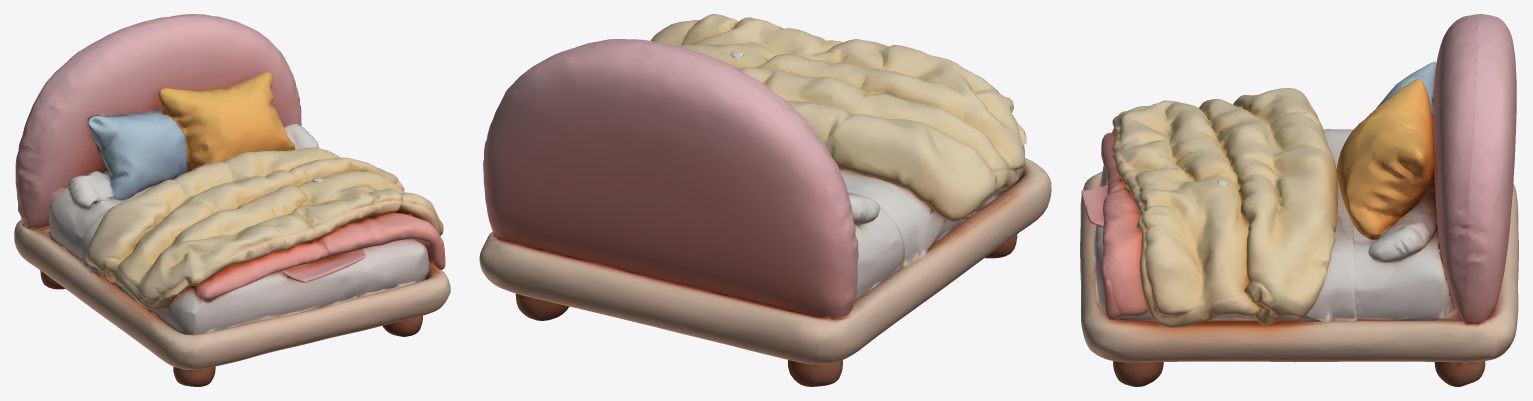
Rendered from bed_h3.glb.
3 renders of one model, left to right at view 1: azimuth 30°, elevation 25°; view 2: azimuth 150°, elevation 25°; view 3: azimuth 270°, elevation 25°, orthographic. The views are drawn at different scales.
Parts seen in each view (by area): view 1: tripo_node_ea8d1af3-e61d-4039-8214-ae8c7dc1638e; view 2: tripo_node_ea8d1af3-e61d-4039-8214-ae8c7dc1638e; view 3: tripo_node_ea8d1af3-e61d-4039-8214-ae8c7dc1638e.
Part boxes in pixels (x1,y1,x2,y2): tripo_node_ea8d1af3-e61d-4039-8214-ae8c7dc1638e: [14, 14, 450, 386]; tripo_node_ea8d1af3-e61d-4039-8214-ae8c7dc1638e: [479, 14, 1051, 386]; tripo_node_ea8d1af3-e61d-4039-8214-ae8c7dc1638e: [1080, 14, 1518, 386].
Bounding box in the file's own units: 0.9978 × 0.7081 × 1.
Materials: 1 (1 with a texture image).
